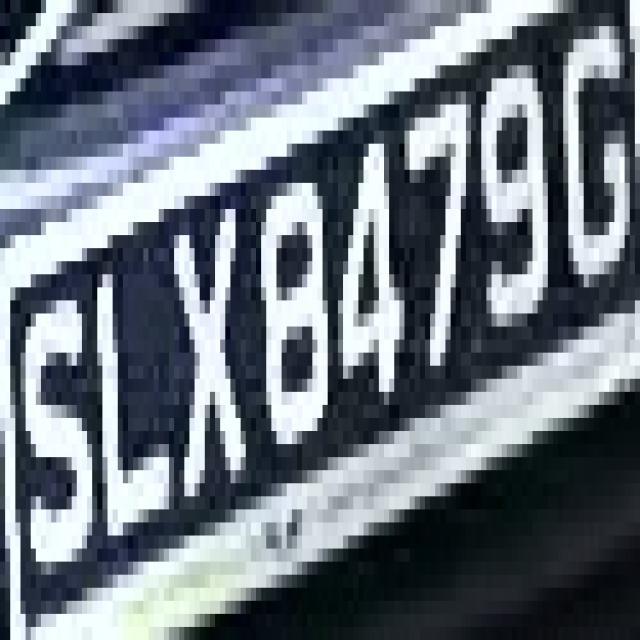4: (318, 104, 404, 418)
7: (394, 91, 476, 366)
8: (241, 144, 338, 444)
9: (471, 26, 563, 314)
G: (548, 13, 635, 300)
L: (87, 235, 184, 536)
S: (16, 261, 92, 588)
X: (148, 157, 251, 509)
